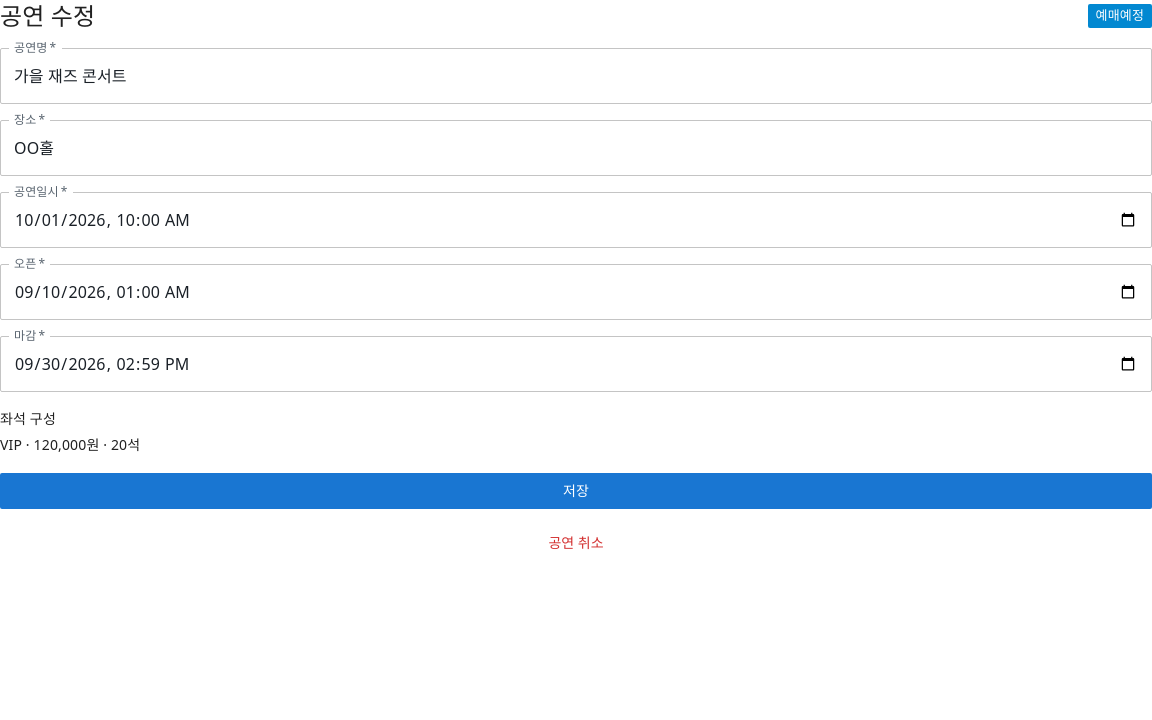
Test: PerformanceEditPage › SC-09 (happy) 확인 다이얼로그에서 확인하면 취소 상태가 반영된다
Expected: the field showing "가을 재즈 콘서트" is shown, [0,48,1151,104]
Click the button "공연 취소".
click(576, 544)  # box [0,525,1151,562]
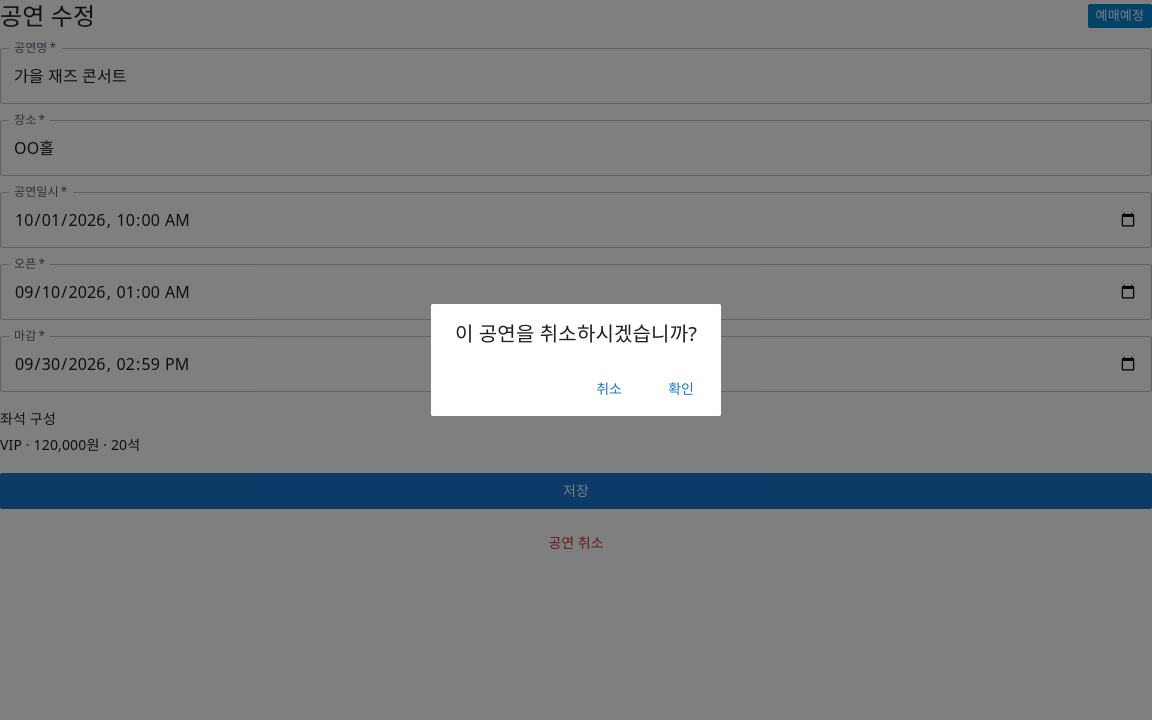
Result: the heading "이 공연을 취소하시겠습니까?" is shown at [455,320,697,347]
Click the button "확인".
click(681, 390)  # box [649,371,713,408]
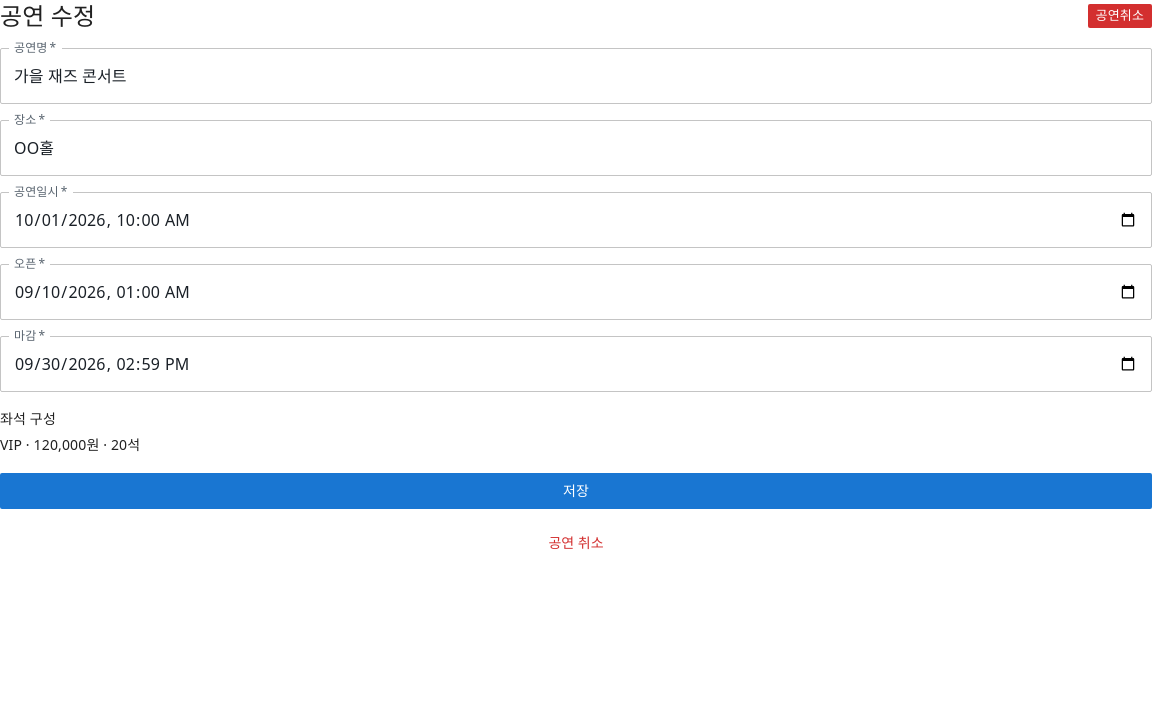
Expected: the text "VIP · 120,000원 · 20석" is shown, [0,435,140,454]
Result: the text "공연취소" is shown at [1096,6,1144,24]
